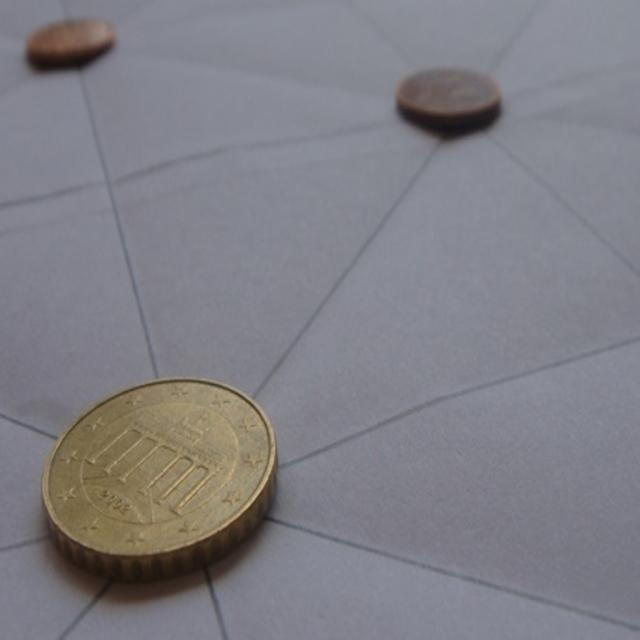Coin: (41, 382, 279, 577), (392, 63, 507, 126), (28, 15, 119, 68)
